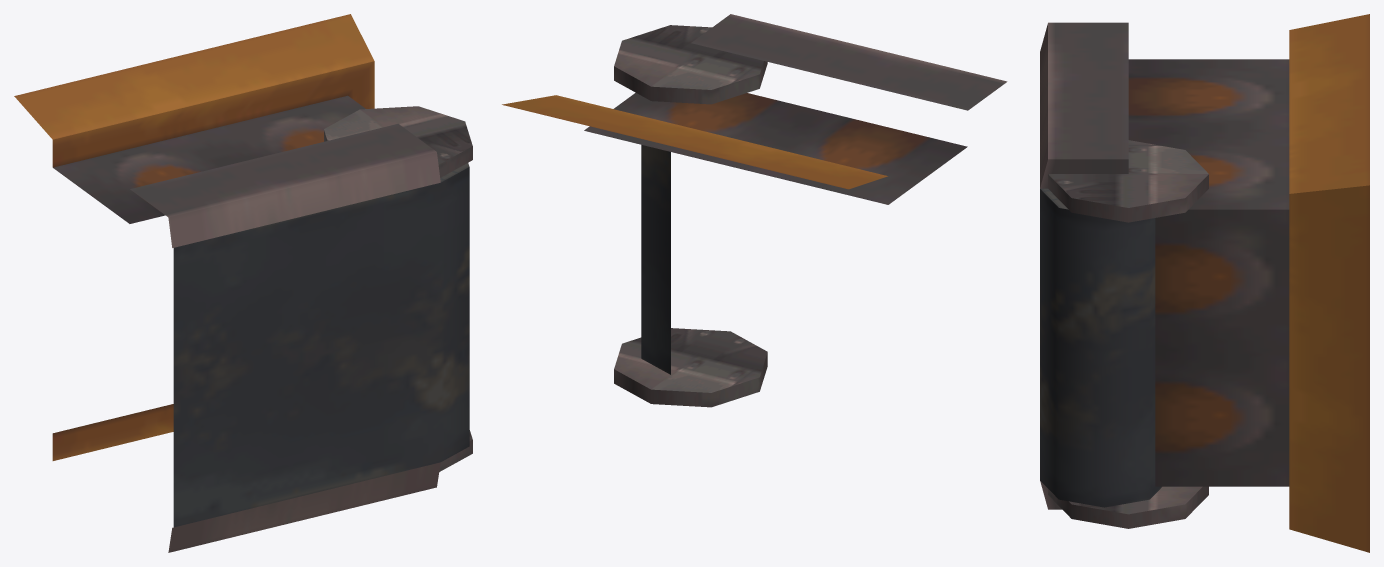
The model's file is conveyorbelt_cap.glb.
3 views of the same model, side by side, from view 1: azimuth 30°, elevation 25°; view 2: azimuth 150°, elevation 25°; view 3: azimuth 270°, elevation 25° (orthographic). The views are drawn at different scales.
Visible parts, largest first — view 1: factory.conveyorbelt_cap-MeshNodes["conveyor_cap_01_belt"], factory.conveyorbelt_cap-MeshNodes["conveyor_cap_01"], factory.conveyorbelt_cap-MeshNodes["conveyor_cap_01_wheel"]; view 2: factory.conveyorbelt_cap-MeshNodes["conveyor_cap_01"], factory.conveyorbelt_cap-MeshNodes["conveyor_cap_01_wheel"], factory.conveyorbelt_cap-MeshNodes["conveyor_cap_01_belt"]; view 3: factory.conveyorbelt_cap-MeshNodes["conveyor_cap_01"], factory.conveyorbelt_cap-MeshNodes["conveyor_cap_01_belt"], factory.conveyorbelt_cap-MeshNodes["conveyor_cap_01_wheel"].
Part boxes in pixels (x1,y1,x2,y2): factory.conveyorbelt_cap-MeshNodes["conveyor_cap_01_belt"]: [173, 163, 469, 527]; factory.conveyorbelt_cap-MeshNodes["conveyor_cap_01"]: [14, 14, 440, 552]; factory.conveyorbelt_cap-MeshNodes["conveyor_cap_01_wheel"]: [324, 106, 472, 471]; factory.conveyorbelt_cap-MeshNodes["conveyor_cap_01"]: [502, 14, 1007, 204]; factory.conveyorbelt_cap-MeshNodes["conveyor_cap_01_wheel"]: [614, 25, 767, 407]; factory.conveyorbelt_cap-MeshNodes["conveyor_cap_01_belt"]: [641, 145, 670, 374]; factory.conveyorbelt_cap-MeshNodes["conveyor_cap_01"]: [1040, 14, 1369, 552]; factory.conveyorbelt_cap-MeshNodes["conveyor_cap_01_belt"]: [1040, 188, 1161, 507]; factory.conveyorbelt_cap-MeshNodes["conveyor_cap_01_wheel"]: [1048, 140, 1208, 528].
Size of the model in its own units: 1.01 by 1.01 by 0.82.
Materials: 2 (2 with a texture image).
